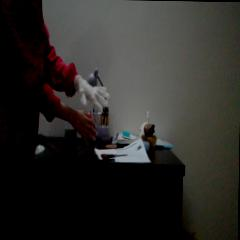gloved: (78, 78, 110, 114)
not-gloved: (69, 111, 98, 146)
